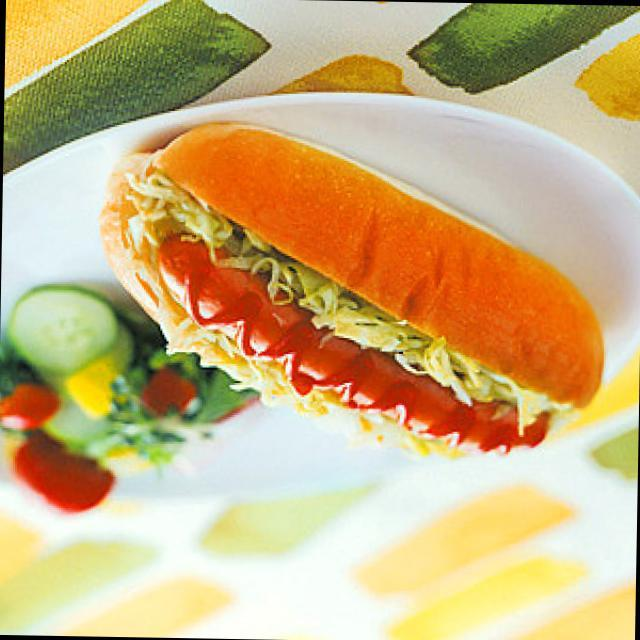Hot Dog: (113, 135, 602, 469)
